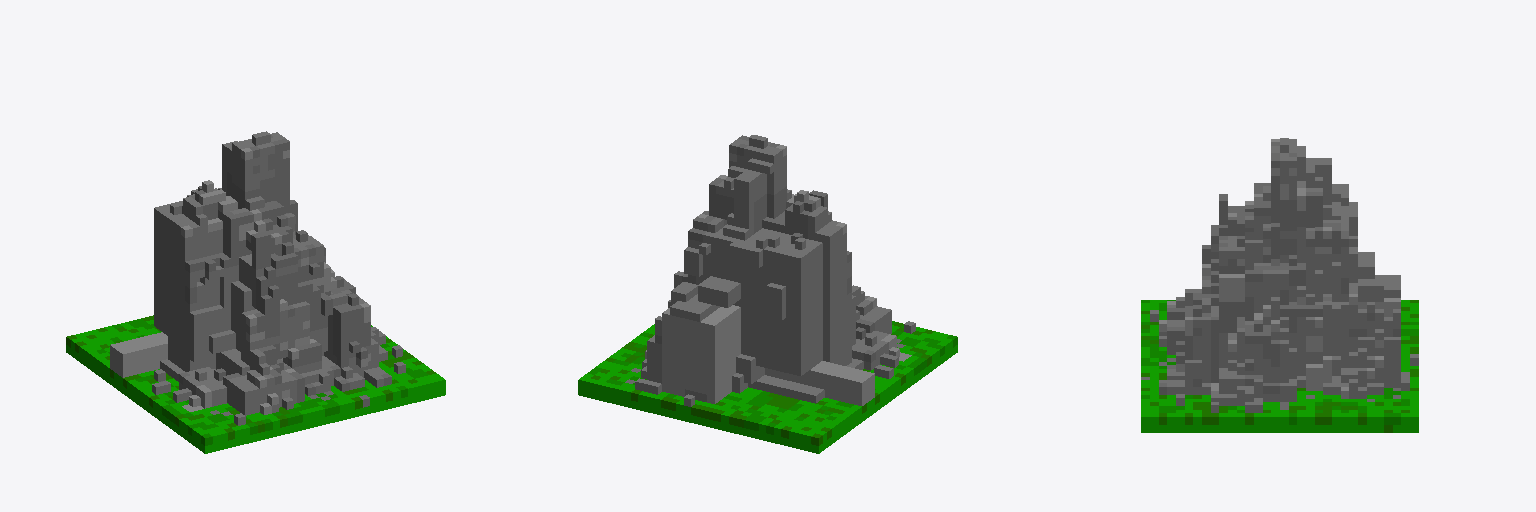
3 renders of one model, left to right at view 1: azimuth 30°, elevation 25°; view 2: azimuth 150°, elevation 25°; view 3: azimuth 270°, elevation 25°, orthographic.
Parts seen in each view (by area): view 1: berg; view 2: berg; view 3: berg.
Boxes of the visible parts, box(x1,y1,x2,y2) form: berg: box(66, 131, 445, 453); berg: box(578, 135, 957, 453); berg: box(1141, 138, 1418, 432).
Bounding box in the file's own units: 32 × 30 × 32.
1 materials, 1 textured.